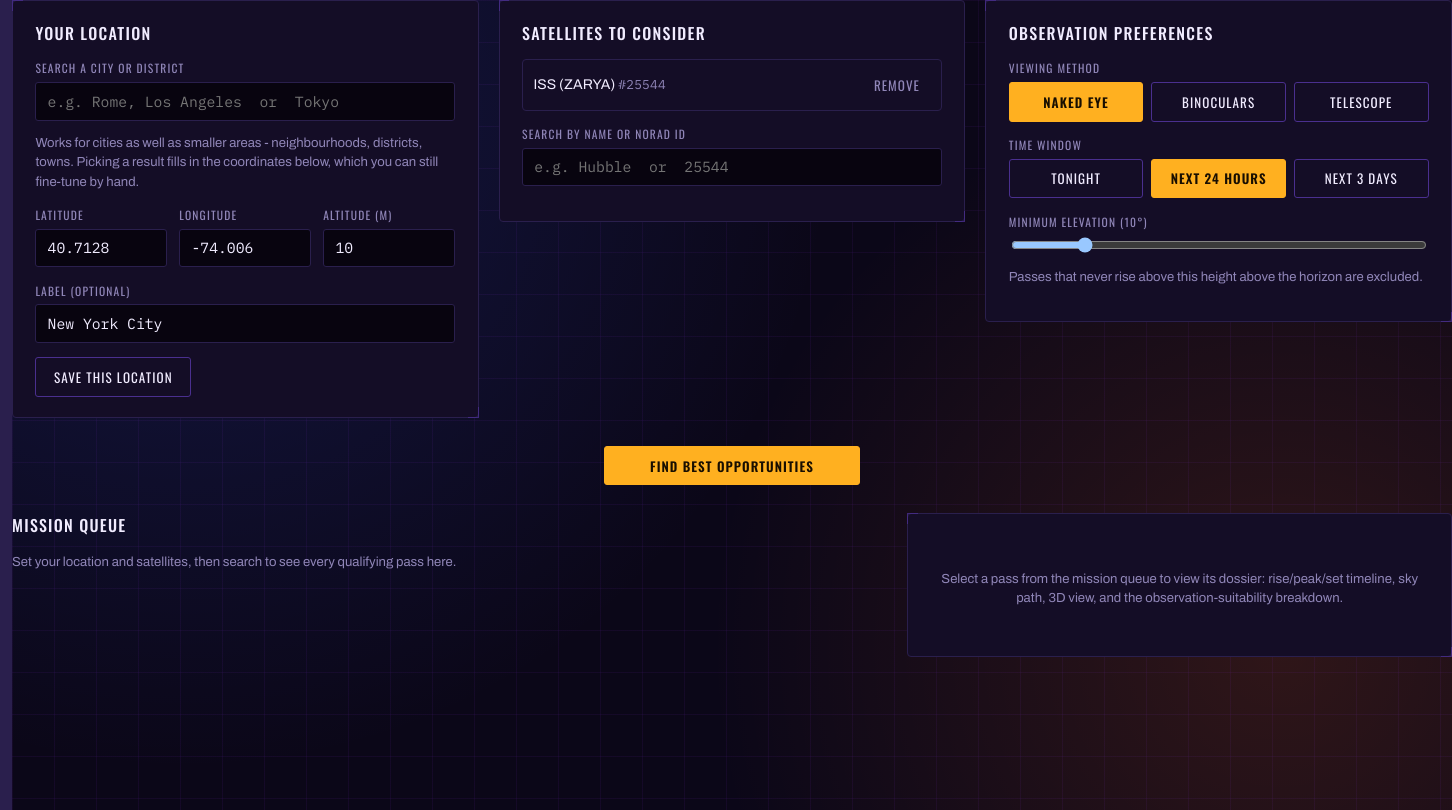
Test case: Dashboard › shows an error message when the search fails
Click the button "Find best opportunities": (732, 466) [604,446,860,485]
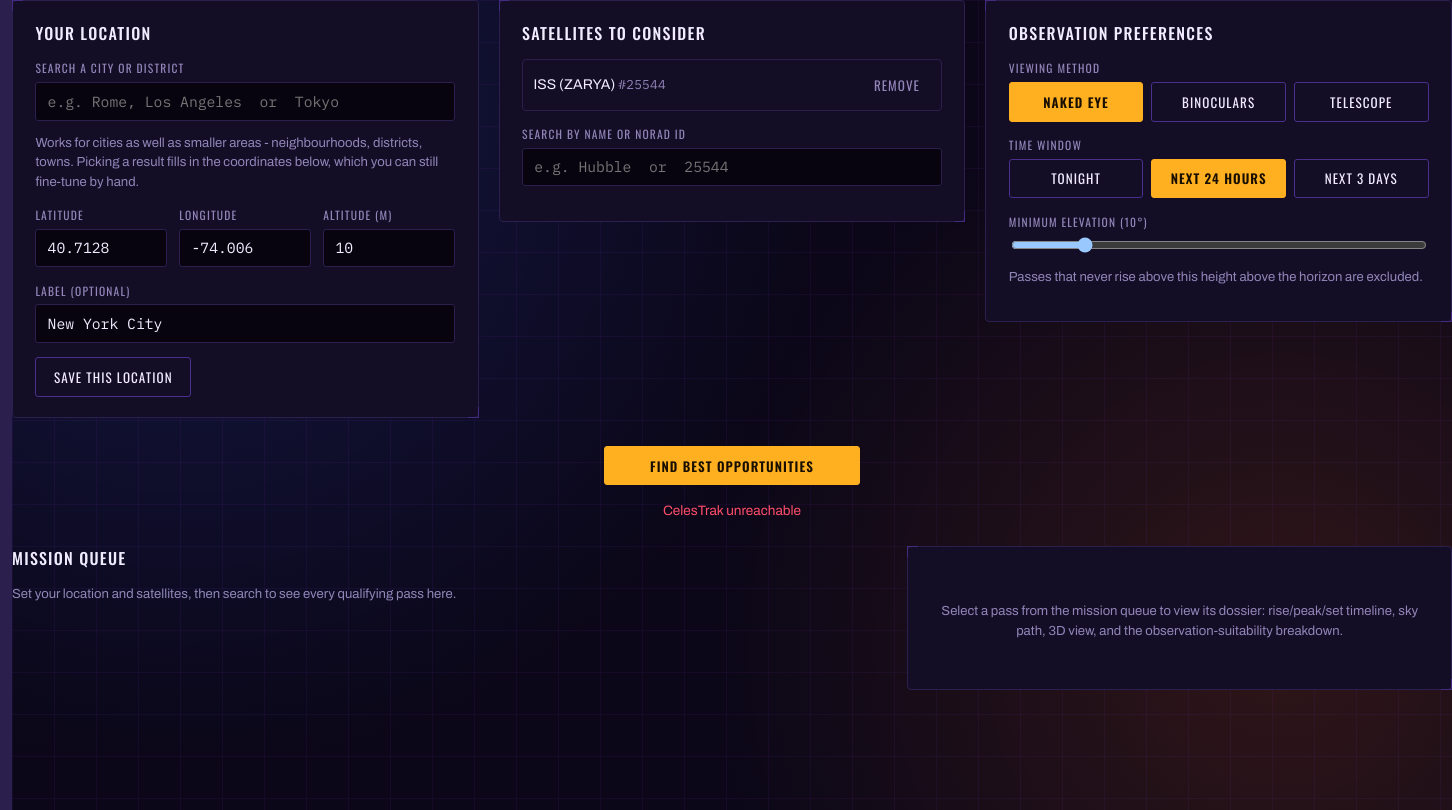
Check: the text "CelesTrak unreachable" is shown, box [663,503,801,518]
